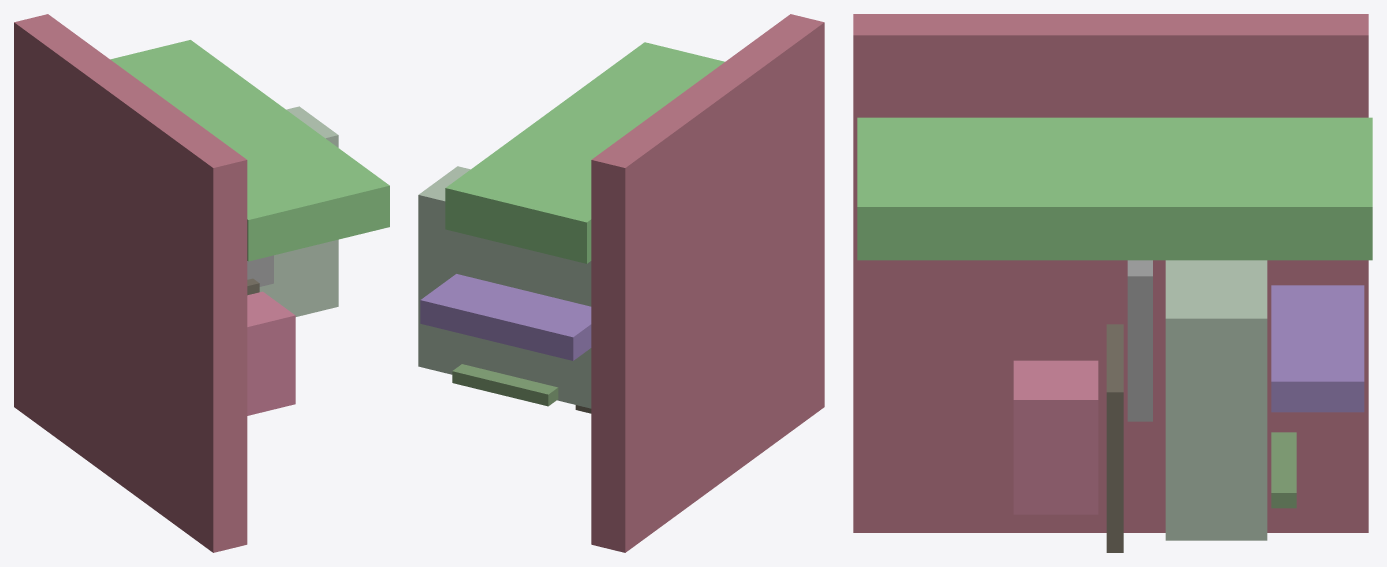
3 views of the same model, side by side, from view 1: azimuth 30°, elevation 25°; view 2: azimuth 150°, elevation 25°; view 3: azimuth 270°, elevation 25° (orthographic). The views are drawn at different scales.
Visible parts, largest first — view 1: world; view 2: world; view 3: world.
Part boxes in pixels (bbox=[...]): world: bbox=[14, 14, 389, 552]; world: bbox=[418, 14, 824, 552]; world: bbox=[853, 14, 1372, 552].
Size of the model in its own units: 4.35 by 6.5 by 6.15.
